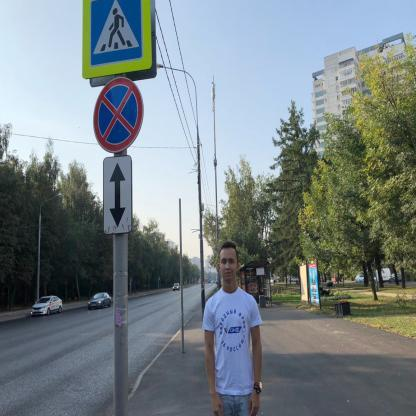road_sign: (82, 0, 157, 86), (94, 77, 143, 152), (104, 155, 132, 233)
